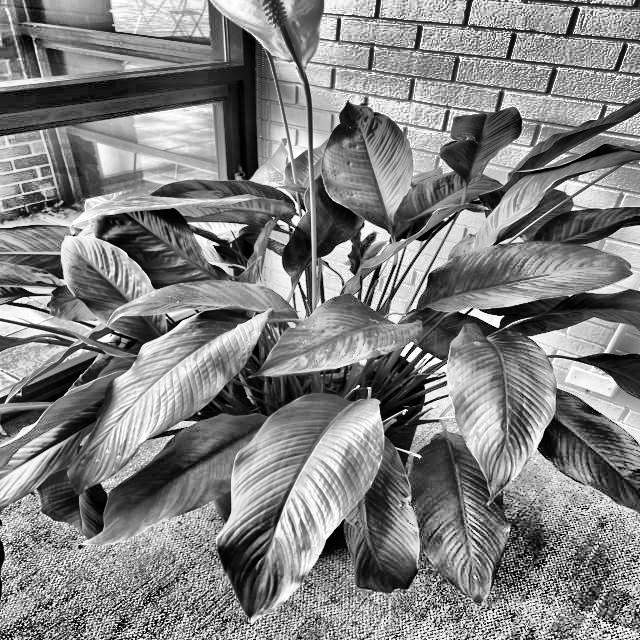plants: (60, 110, 640, 612)
